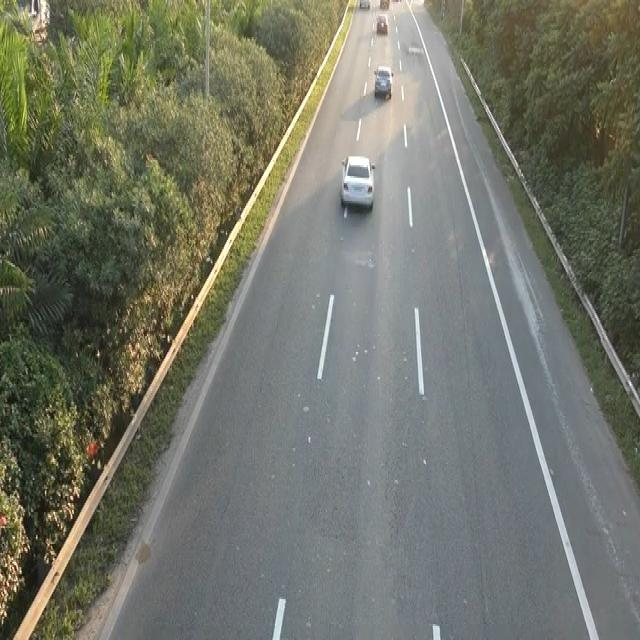bus: (338, 149, 378, 219), (373, 62, 393, 100)
